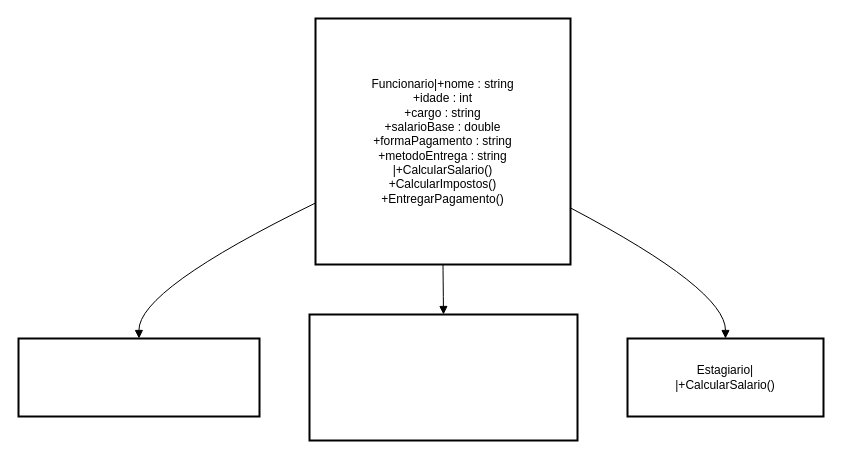
This 841x458 diagram has some shape labels left out. The shapes that lost their labels are listed below. From the top down, each one's box as (x1, y1, x2, y2) in pixels, then its label:
(17, 337, 260, 417): Gerente|+bonus : double |+CalcularSalario()
(308, 313, 578, 441): Desenvolvedor|+horasExtras : int +valorHora : double |+CalcularSalario()
